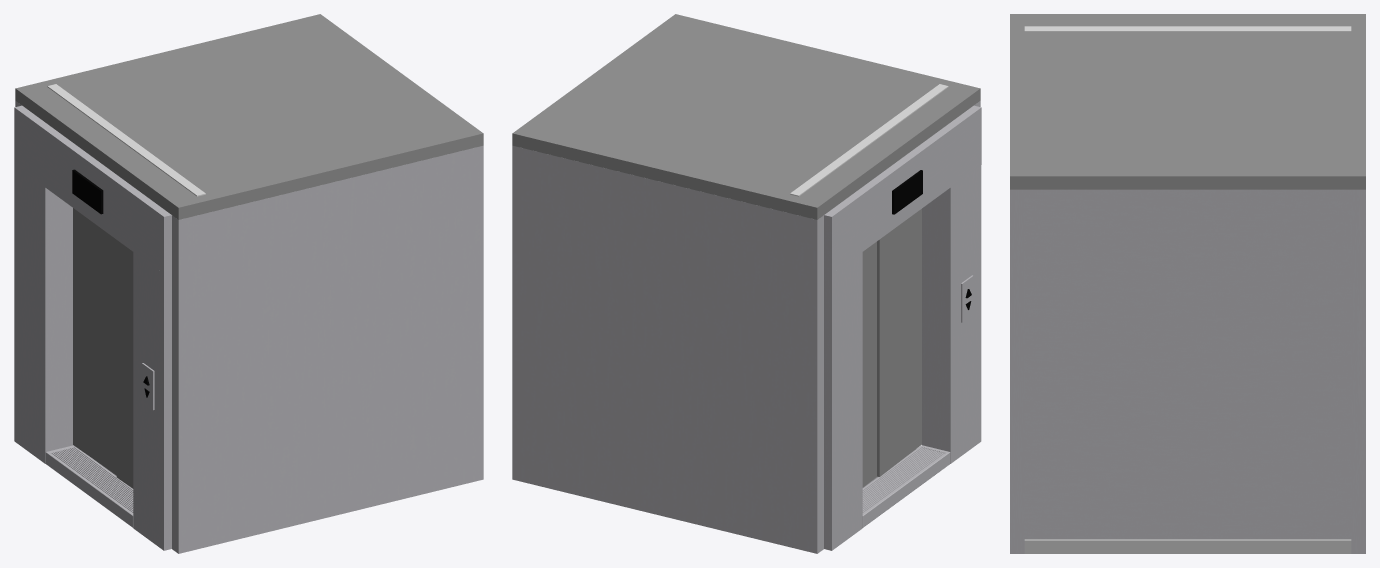
File: Elevator.gltf
3 renders of one model, left to right at view 1: azimuth 30°, elevation 25°; view 2: azimuth 150°, elevation 25°; view 3: azimuth 270°, elevation 25°, orthographic. The views are drawn at different scales.
Visible parts, largest first — view 1: Cube.011, Cube.003, Cube.005, leftDoor, Cube.018, Cube.006, rightDoor, Cube.009, Cube.007, display; view 2: Cube.001, Cube.003, Cube.018, Cube.005, rightDoor, Cube.006, leftDoor, Cube.009, Cube.007, display; view 3: Cube.015, Cube.003, Cube.001, Cube.011, Cube, Cube.007.
Boxes of the visible parts, x1,y1,x2,y2 form: Cube.011: [172, 145, 483, 553]; Cube.003: [15, 14, 483, 219]; Cube.005: [14, 165, 72, 463]; leftDoor: [73, 208, 116, 474]; Cube.018: [133, 252, 171, 550]; Cube.006: [14, 105, 171, 274]; rightDoor: [116, 240, 133, 488]; Cube.009: [45, 445, 133, 527]; Cube.007: [47, 84, 205, 196]; display: [72, 169, 103, 214]; Cube.001: [512, 145, 823, 553]; Cube.003: [512, 14, 980, 219]; Cube.018: [922, 165, 981, 463]; Cube.005: [824, 252, 862, 550]; rightDoor: [877, 209, 921, 476]; Cube.006: [824, 105, 981, 274]; leftDoor: [862, 241, 876, 487]; Cube.009: [862, 445, 950, 527]; Cube.007: [790, 84, 948, 196]; display: [892, 170, 922, 214]; Cube.015: [1024, 189, 1351, 539]; Cube.003: [1010, 14, 1365, 189]; Cube.001: [1351, 189, 1365, 553]; Cube.011: [1010, 189, 1024, 553]; Cube: [1024, 539, 1351, 553]; Cube.007: [1024, 26, 1351, 31].
Size of the model in its own units: 3.56 by 3.73 by 3.18.
